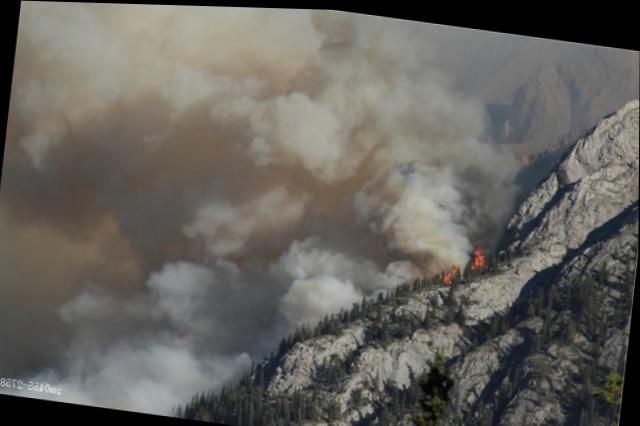fire: (476, 244, 488, 263), (444, 270, 453, 281)
